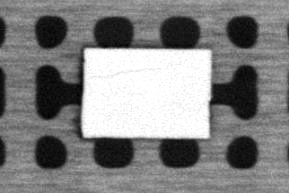DIE_CRACK: (90, 65, 162, 80)
